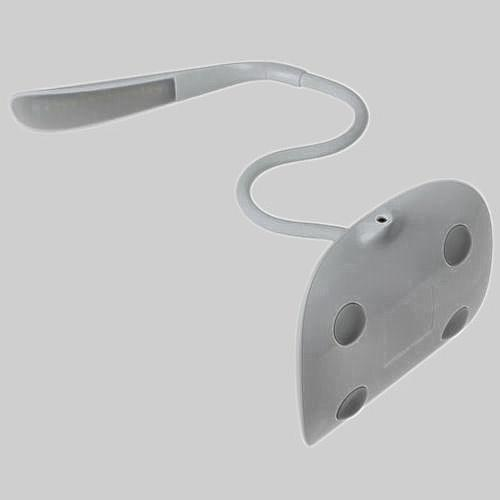lamp: (40, 57, 482, 414)
